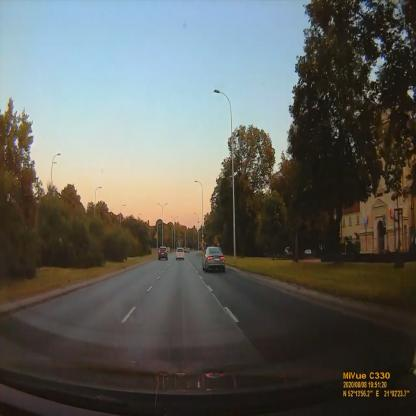cars: (202, 246, 225, 272), (158, 246, 168, 260), (176, 248, 184, 261)
